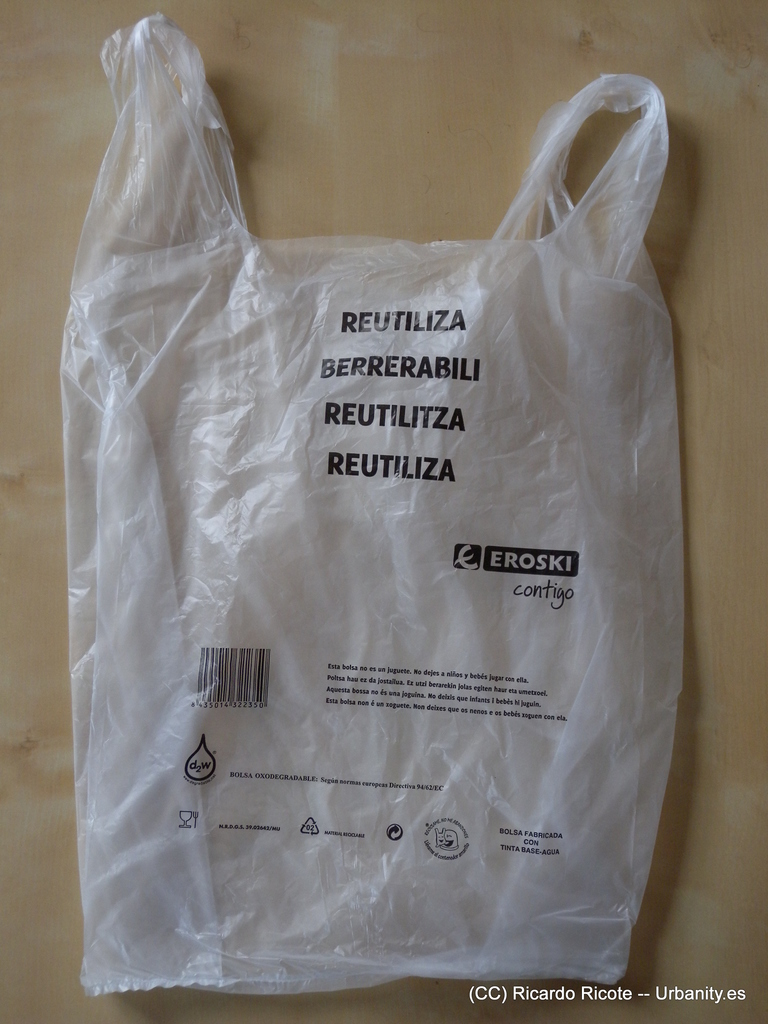kantong: (56, 15, 685, 997)
